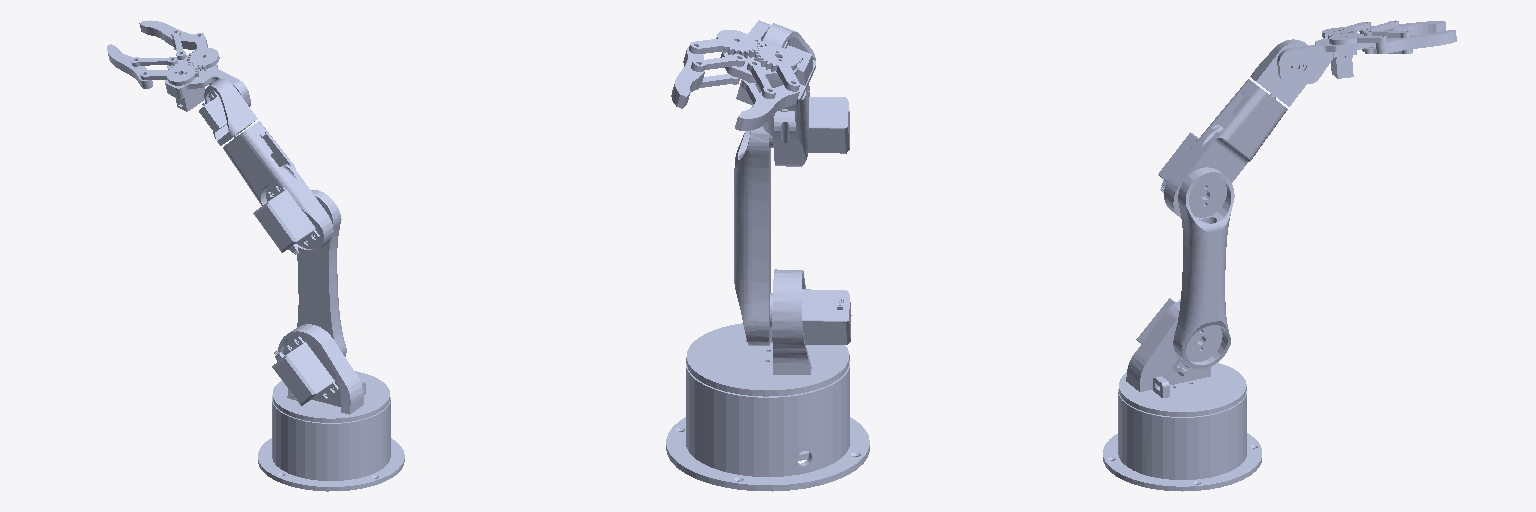
robot.urdf — robotisim_robotic_arm:
<?xml version="1.0" ?>
<robot xmlns:xacro="http://www.ros.org/wiki/xacro" name="robotisim_robotic_arm">
<!-- =================================================================================== -->
<!-- |    This document was autogenerated by xacro from src/robotisim_robotic_arm/urdf/robotisim_robotic_arm.urdf.xacro | -->
<!-- |    EDITING THIS FILE BY HAND IS NOT RECOMMENDED                                 | -->
<!-- =================================================================================== -->
<!-- This URDF was automatically created by SolidWorks to URDF Exporter! Originally created by [author] ([email redacted])
     Commit Version: 1.6.0-4-g7f85cfe  Build Version: 1.6.7995.38578
     For more information, please see http://wiki.ros.org/sw_urdf_exporter -->
  <link name="world"/>
  <joint name="world_fixed" type="fixed">
    <parent link="world"/>
    <child link="base_link"/>
  </joint>
  <link name="base_link">
    <inertial>
      <origin rpy="0 0 0" xyz="0.00204995011634888 -0.0013568295468784 0.0241952654679318"/>
      <mass value="0.129914110072269"/>
      <inertia ixx="0.000137918155311093" ixy="6.16598410102602E-06" ixz="-3.03105894479001E-06" iyy="0.000143152813475306" iyz="2.00621343324056E-06" izz="0.000213999946093168"/>
    </inertial>
    <visual>
      <origin rpy="0 0 0" xyz="0 0 0"/>
      <geometry>
        <mesh filename="package://robotisim_robotic_arm/meshes/base_link.STL"/>
      </geometry>
      <material name="">
        <color rgba="0.792156862745098 0.819607843137255 0.933333333333333 1"/>
      </material>
    </visual>
    <collision>
      <origin rpy="0 0 0" xyz="0 0 0"/>
      <geometry>
        <mesh filename="package://robotisim_robotic_arm/meshes/base_link.STL"/>
      </geometry>
    </collision>
  </link>
  <link name="link_1">
    <inertial>
      <origin rpy="0 0 0" xyz="-0.0137888438406219 -0.00362693293121285 0.0226362055648196"/>
      <mass value="0.101914124966612"/>
      <inertia ixx="6.1280499711277E-05" ixy="4.97407108493283E-06" ixz="8.19530945278062E-06" iyy="5.55976350373255E-05" iyz="-4.83350549107714E-06" izz="6.23847221180022E-05"/>
    </inertial>
    <visual>
      <origin rpy="0 0 0" xyz="0 0 0"/>
      <geometry>
        <mesh filename="package://robotisim_robotic_arm/meshes/link_1.STL"/>
      </geometry>
      <material name="">
        <color rgba="0.792156862745098 0.819607843137255 0.933333333333333 1"/>
      </material>
    </visual>
    <collision>
      <origin rpy="0 0 0" xyz="0 0 0"/>
      <geometry>
        <mesh filename="package://robotisim_robotic_arm/meshes/link_1.STL"/>
      </geometry>
    </collision>
  </link>
  <joint name="joint_1" type="revolute">
    <origin rpy="0 0 0" xyz="0 0 0.0566"/>
    <parent link="base_link"/>
    <child link="link_1"/>
    <axis xyz="0 0 1"/>
    <limit effort="10" lower="-3.14" upper="3.14" velocity="1"/>
    <dynamics damping="3.0"/>
  </joint>
  <link name="link_2">
    <inertial>
      <origin rpy="0 0 0" xyz="-0.00181173640499305 0.00176779024696806 0.0585628483478335"/>
      <mass value="0.0643851410120395"/>
      <inertia ixx="0.000106917717811877" ixy="-8.06934088602823E-09" ixz="3.24473269191733E-06" iyy="0.000111831242505046" iyz="2.38709472096612E-07" izz="9.21611171966149E-06"/>
    </inertial>
    <visual>
      <origin rpy="0 0 0" xyz="0 0 0"/>
      <geometry>
        <mesh filename="package://robotisim_robotic_arm/meshes/link_2.STL"/>
      </geometry>
      <material name="">
        <color rgba="0.792156862745098 0.819607843137255 0.933333333333333 1"/>
      </material>
    </visual>
    <collision>
      <origin rpy="0 0 0" xyz="0 0 0"/>
      <geometry>
        <mesh filename="package://robotisim_robotic_arm/meshes/link_2.STL"/>
      </geometry>
    </collision>
  </link>
  <joint name="joint_2" type="revolute">
    <origin rpy="0 0 -1.0837" xyz="-0.0028028 0.014266 0.040276"/>
    <parent link="link_1"/>
    <child link="link_2"/>
    <axis xyz="0 1 0"/>
    <limit effort="10" lower="-1.57" upper="1.57" velocity="1"/>
    <dynamics damping="3.0"/>
  </joint>
  <link name="link_3">
    <inertial>
      <origin rpy="0 0 0" xyz="-0.0214794613154096 -0.0227152796924238 0.0224280683333677"/>
      <mass value="0.0912746926492035"/>
      <inertia ixx="4.11888089584507E-05" ixy="-3.91865228915033E-07" ixz="2.45343789609606E-05" iyy="6.48147315419532E-05" iyz="4.09472891488387E-07" izz="3.89440270523046E-05"/>
    </inertial>
    <visual>
      <origin rpy="0 0 0" xyz="0 0 0"/>
      <geometry>
        <mesh filename="package://robotisim_robotic_arm/meshes/link_3.STL"/>
      </geometry>
      <material name="">
        <color rgba="0.792156862745098 0.819607843137255 0.933333333333333 1"/>
      </material>
    </visual>
    <collision>
      <origin rpy="0 0 0" xyz="0 0 0"/>
      <geometry>
        <mesh filename="package://robotisim_robotic_arm/meshes/link_3.STL"/>
      </geometry>
    </collision>
  </link>
  <joint name="joint_3" type="revolute">
    <origin rpy="0 0 0" xyz="-0.0039767 0 0.11993"/>
    <parent link="link_2"/>
    <child link="link_3"/>
    <axis xyz="0 1 0"/>
    <limit effort="10" lower="-1.57" upper="1.57" velocity="1"/>
    <dynamics damping="3.0"/>
  </joint>
  <link name="link_4">
    <inertial>
      <origin rpy="0 0 0" xyz="0.0192431133520643 -0.00468896726705134 -0.00486850061846972"/>
      <mass value="0.0236280654739583"/>
      <inertia ixx="3.08746297553031E-06" ixy="-1.30769444603168E-07" ixz="6.39583860627755E-07" iyy="4.6340060273881E-06" iyz="-2.36415157525712E-07" izz="5.30133518226429E-06"/>
    </inertial>
    <visual>
      <origin rpy="0 0 0" xyz="0 0 0"/>
      <geometry>
        <mesh filename="package://robotisim_robotic_arm/meshes/link_4.STL"/>
      </geometry>
      <material name="">
        <color rgba="0.792156862745098 0.819607843137255 0.933333333333333 1"/>
      </material>
    </visual>
    <collision>
      <origin rpy="0 0 0" xyz="0 0 0"/>
      <geometry>
        <mesh filename="package://robotisim_robotic_arm/meshes/link_4.STL"/>
      </geometry>
    </collision>
  </link>
  <joint name="joint_4" type="revolute">
    <origin rpy="-2.2251 -0.76216 -3.1416" xyz="-0.067003 -0.0167 0.062667"/>
    <parent link="link_3"/>
    <child link="link_4"/>
    <axis xyz="1 0 0"/>
    <limit effort="10" lower="-1" upper="1.57" velocity="1"/>
    <dynamics damping="3.0"/>
  </joint>
  <link name="gripper_body">
    <inertial>
      <origin rpy="0 0 0" xyz="-0.0212487659987141 -0.0104868778205601 -0.0186310253452646"/>
      <mass value="0.022849994230099"/>
      <inertia ixx="4.77743683135887E-06" ixy="-1.24258597422371E-06" ixz="-2.7718039424027E-06" iyy="7.69973117098014E-06" iyz="-8.04241165083622E-07" izz="6.92233157211724E-06"/>
    </inertial>
    <visual>
      <origin rpy="0 0 0" xyz="0 0 0"/>
      <geometry>
        <mesh filename="package://robotisim_robotic_arm/meshes/gripper_body.STL"/>
      </geometry>
      <material name="">
        <color rgba="0.792156862745098 0.819607843137255 0.933333333333333 1"/>
      </material>
    </visual>
    <collision>
      <origin rpy="0 0 0" xyz="0 0 0"/>
      <geometry>
        <mesh filename="package://robotisim_robotic_arm/meshes/gripper_body.STL"/>
      </geometry>
    </collision>
  </link>
  <joint name="gripper_body_joint" type="revolute">
    <origin rpy="-1.8495 -0.034709 3.0809" xyz="0.027522 -0.00018364 -0.021708"/>
    <parent link="link_4"/>
    <child link="gripper_body"/>
    <axis xyz="0 1 0"/>
    <limit effort="10" lower="-1.57" upper="1.57" velocity="1"/>
    <dynamics damping="3.0"/>
  </joint>
  <link name="gripper_right_arm">
    <inertial>
      <origin rpy="0 0 0" xyz="0.000713131452429128 0.0373870000178132 -0.00619628696736579"/>
      <mass value="0.00803908494447857"/>
      <inertia ixx="1.80504975638724E-06" ixy="4.25074055848134E-07" ixz="4.23986071750367E-12" iyy="4.28425452232142E-07" iyz="-5.1569238497986E-12" izz="2.16143641884783E-06"/>
    </inertial>
    <visual>
      <origin rpy="0 0 0" xyz="0 0 0"/>
      <geometry>
        <mesh filename="package://robotisim_robotic_arm/meshes/gripper_right_arm.STL"/>
      </geometry>
      <material name="">
        <color rgba="0.792156862745098 0.819607843137255 0.933333333333333 1"/>
      </material>
    </visual>
    <collision>
      <origin rpy="0 0 0" xyz="0 0 0"/>
      <geometry>
        <mesh filename="package://robotisim_robotic_arm/meshes/gripper_right_arm.STL"/>
      </geometry>
    </collision>
  </link>
  <link name="random"/>
  <joint name="gripper_right_arm_joint_mimic" type="fixed">
    <parent link="world" />
    <child link="random" />
  </joint>
  <joint name="gripper_right_arm_joint" type="revolute">
    <mimic joint="gripper_left_arm_joint"/>
    <origin rpy="-0.82657 -0.16653 1.4193" xyz="-0.039784 0.004 -0.015351"/>
    <parent link="gripper_body"/>
    <child link="gripper_right_arm"/>
    <axis xyz="0 0 1"/>
    <limit effort="1000" lower="-0.4" upper="0" velocity="10"/>
  </joint>
  <link name="gripper_left_arm">
    <inertial>
      <origin rpy="0 0 0" xyz="-0.0164564270062939 0.0337213794674381 -0.00623617507733432"/>
      <mass value="0.00796332106924134"/>
      <inertia ixx="1.88450714843574E-06" ixy="2.29597773651007E-07" ixz="1.77026611497652E-12" iyy="3.47707776673474E-07" iyz="9.15654501080361E-12" izz="2.16037824091747E-06"/>
    </inertial>
    <visual>
      <origin rpy="0 0 0" xyz="0 0 0"/>
      <geometry>
        <mesh filename="package://robotisim_robotic_arm/meshes/gripper_left_arm.STL"/>
      </geometry>
      <material name="">
        <color rgba="0.792156862745098 0.819607843137255 0.933333333333333 1"/>
      </material>
    </visual>
    <collision>
      <origin rpy="0 0 0" xyz="0 0 0"/>
      <geometry>
        <mesh filename="package://robotisim_robotic_arm/meshes/gripper_left_arm.STL"/>
      </geometry>
    </collision>
  </link>
  <joint name="gripper_left_arm_joint" type="revolute">
    <origin rpy="-0.82657 -0.16653 1.4193" xyz="-0.039784 -0.0229 -0.015351"/>
    <parent link="gripper_body"/>
    <child link="gripper_left_arm"/>
    <axis xyz="0 0 -1"/>
    <limit effort="1000.0" lower="-0.4" upper="0" velocity="10"/>
  </joint>
  <link name="gripper_right_wing">
    <inertial>
      <origin rpy="0 0 0" xyz="0.00580191025799157 0.014373163790736 -0.00824999999995041"/>
      <mass value="0.00159752482636938"/>
      <inertia ixx="1.78020067721761E-07" ixy="-6.89274501022285E-08" ixz="4.63221143029695E-23" iyy="3.50884498010982E-08" iyz="9.76073122812573E-23" izz="2.08848451319207E-07"/>
    </inertial>
    <visual>
      <origin rpy="0 0 0" xyz="0 0 0"/>
      <geometry>
        <mesh filename="package://robotisim_robotic_arm/meshes/gripper_right_wing.STL"/>
      </geometry>
      <material name="">
        <color rgba="0.792156862745098 0.819607843137255 0.933333333333333 1"/>
      </material>
    </visual>
    <collision>
      <origin rpy="0 0 0" xyz="0 0 0"/>
      <geometry>
        <mesh filename="package://robotisim_robotic_arm/meshes/gripper_right_wing.STL"/>
      </geometry>
    </collision>
  </link>
  <joint name="gripper_right_wing_joint" type="revolute">
    <origin rpy="-0.82657 -0.16653 1.4193" xyz="-0.053145 -0.004 -0.030233"/>
    <parent link="gripper_body"/>
    <child link="gripper_right_wing"/>
    <axis xyz="0 0 1"/>
    <limit effort="10" lower="-1" upper="1" velocity="1"/>
    <dynamics damping="3.0"/>
  </joint>
  <link name="gripper_left_wing">
    <inertial>
      <origin rpy="0 0 0" xyz="-0.011569209703223 0.0103152017353376 -0.00824999999996218"/>
      <mass value="0.00159752482636938"/>
      <inertia ixx="9.52126672233214E-08" ixy="9.86393609535891E-08" ixz="2.05140791913151E-22" iyy="1.17895850299537E-07" iyz="-1.83634095986772E-22" izz="2.08848451319207E-07"/>
    </inertial>
    <visual>
      <origin rpy="0 0 0" xyz="0 0 0"/>
      <geometry>
        <mesh filename="package://robotisim_robotic_arm/meshes/gripper_left_wing.STL"/>
      </geometry>
      <material name="">
        <color rgba="0.792156862745098 0.819607843137255 0.933333333333333 1"/>
      </material>
    </visual>
    <collision>
      <origin rpy="0 0 0" xyz="0 0 0"/>
      <geometry>
        <mesh filename="package://robotisim_robotic_arm/meshes/gripper_left_wing.STL"/>
      </geometry>
    </collision>
  </link>
  <joint name="gripper_left_wing_joint" type="revolute">
    <origin rpy="-0.82657 -0.16653 1.4193" xyz="-0.053145 -0.014 -0.030233"/>
    <parent link="gripper_body"/>
    <child link="gripper_left_wing"/>
    <axis xyz="0 0 1"/>
    <limit effort="10" lower="-1" upper="1" velocity="1"/>
    <dynamics damping="3.0"/>
  </joint>

  <ros2_control name="RealHardwareSystem" type="system">
        <hardware>
          <plugin>dynamixel_hardware/DynamixelHardware</plugin>
        </hardware>

        <joint name="joint_1">
            <command_interface name="position">
                <param name="min">-1.57</param>
                <param name="max">1.57</param>
            </command_interface>
            <state_interface name="position">
                <param name="initial_value">0.0</param>
            </state_interface>

        </joint>

        <joint name="joint_2">
            <command_interface name="position">
                <param name="min">-2.879793</param>
                <param name="max">2.879793</param>
            </command_interface>
            <state_interface name="position">
                <param name="initial_value">0.0</param>
            </state_interface>
        </joint>

        <joint name="joint_3">
            <command_interface name="position">
                <param name="min">-2.879793</param>
                <param name="max">2.879793</param>
            </command_interface>
            <state_interface name="position">
                <param name="initial_value">0.0</param>
            </state_interface>
        </joint>

        <joint name="joint_4">
            <command_interface name="position">
                <param name="min">-2.879793</param>
                <param name="max">2.879793</param>
            </command_interface>
            <state_interface name="position">
                <param name="initial_value">0.0</param>
            </state_interface>
        </joint>

        <joint name="gripper_body_joint">
            <command_interface name="position">
                <param name="min">-1.57</param>
                <param name="max">1.57</param>
            </command_interface>
            <state_interface name="position">
                <param name="initial_value">0.0</param>
            </state_interface>
        </joint>

        <joint name="gripper_left_arm_joint">
            <command_interface name="position">
            </command_interface>
            <state_interface name="position">
                <param name="initial_value">-0.09</param>
            </state_interface>
        </joint>

        <joint name="gripper_right_arm_joint">
            <param name="mimic">gripper_left_arm_joint</param>
            <param name="multiplier">1</param>
            <command_interface name="position">
            </command_interface>
            <state_interface name="position">
                <param name="initial_value">-0.09</param>
            </state_interface>
        </joint>

        <joint name="gripper_right_wing_joint">
            <command_interface name="position">
                <param name="min">-1.57</param>
                <param name="max">1.57</param>
            </command_interface>
            <state_interface name="position">
                <param name="initial_value">0.0</param>
            </state_interface>
        </joint>

        <joint name="gripper_left_wing_joint">
            <command_interface name="position">
                <param name="min">-1.57</param>
                <param name="max">1.57</param>
            </command_interface>
            <state_interface name="position">
                <param name="initial_value">0.0</param>
            </state_interface>
        </joint>

    </ros2_control>

</robot>

--- Facts derived from the render (not from the file) ---
The picture shows the robot from 3 angles, left to right: view 1: azimuth 30°, elevation 25°; view 2: azimuth 150°, elevation 25°; view 3: azimuth 270°, elevation 25°; orthographic projection.
Robot: robotisim_robotic_arm — 12 links, 11 joints (9 revolute, 2 fixed); root link world; default pose: every joint at zero.
Links seen in each view (by area): view 1: base_link, link_1, link_3, link_2, link_4, gripper_body, gripper_left_arm, gripper_right_arm; view 2: base_link, link_1, link_2, link_3, gripper_left_arm, gripper_right_arm, link_4, gripper_body, gripper_right_wing, gripper_left_wing; view 3: base_link, link_2, link_1, link_3, gripper_body, gripper_right_arm, link_4, gripper_left_arm.
Boxes of the visible links, x1,y1,x2,y2 form: base_link: (258,395,404,491); link_1: (272,324,389,422); link_3: (223,121,333,254); link_2: (297,190,346,356); link_4: (199,79,257,145); gripper_body: (165,55,250,111); gripper_left_arm: (107,44,198,88); gripper_right_arm: (139,20,219,70); base_link: (666,361,869,491); link_1: (686,269,851,396); link_2: (734,106,770,345); link_3: (763,85,849,166); gripper_left_arm: (735,43,799,130); gripper_right_arm: (671,30,760,108); link_4: (763,23,815,103); gripper_body: (720,20,798,105); gripper_right_wing: (691,54,745,89); gripper_left_wing: (741,60,775,103); base_link: (1103,389,1261,491); link_2: (1172,167,1234,375); link_1: (1119,298,1246,416); link_3: (1158,79,1287,217); gripper_body: (1277,38,1375,85); gripper_right_arm: (1328,30,1456,53); link_4: (1250,39,1308,106); gripper_left_arm: (1322,21,1446,39).
Size in the robot's own frame: 0.1638 by 0.2683 by 0.3352 metres.
Meshes: 10 distinct files referenced, 10 mesh visuals loaded (10 binary STL).
